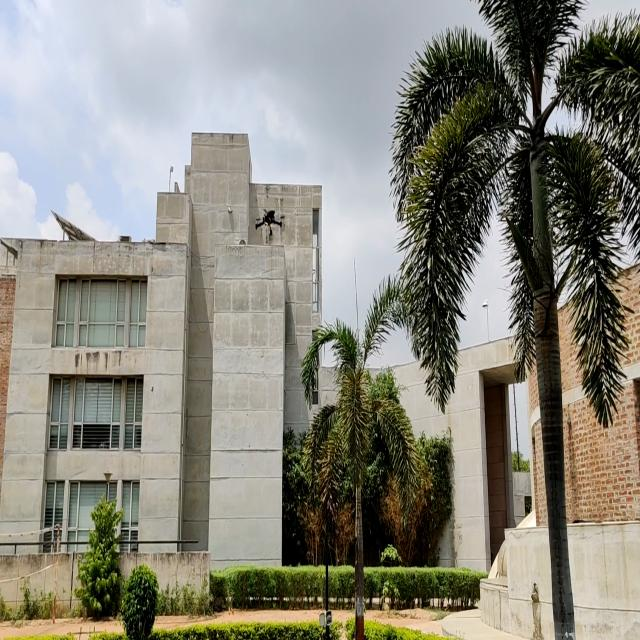drone: (252, 196, 290, 247)
